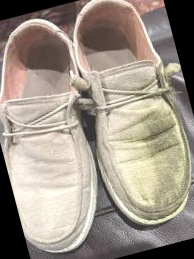earth: (137, 107, 192, 199)
